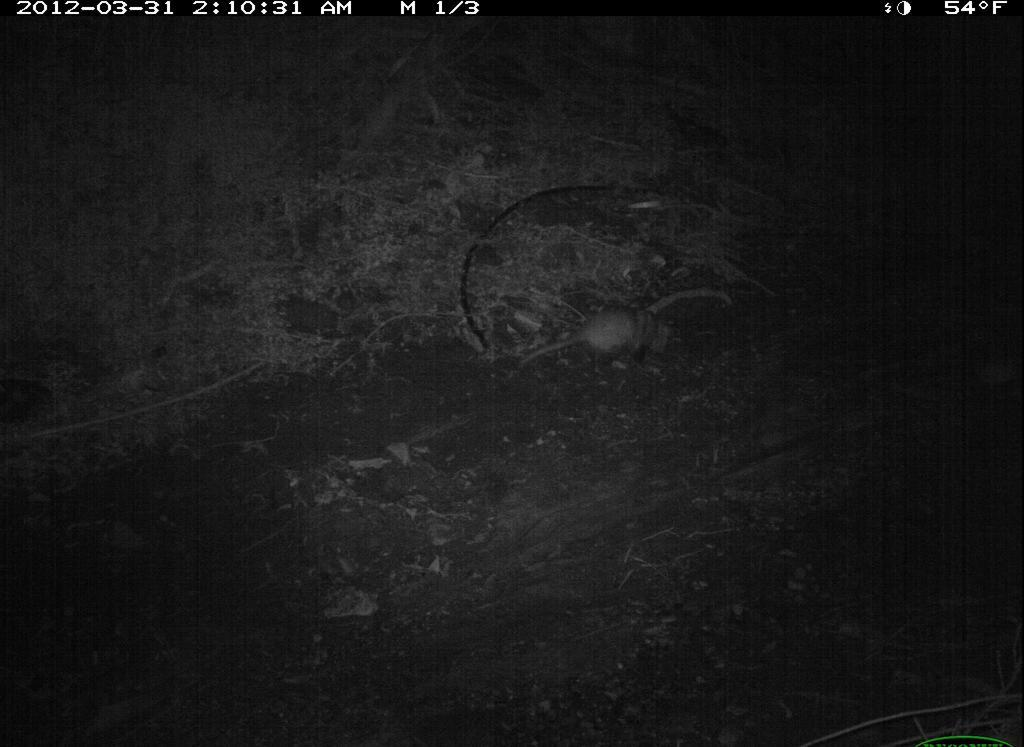opossum: (561, 292, 698, 390)
